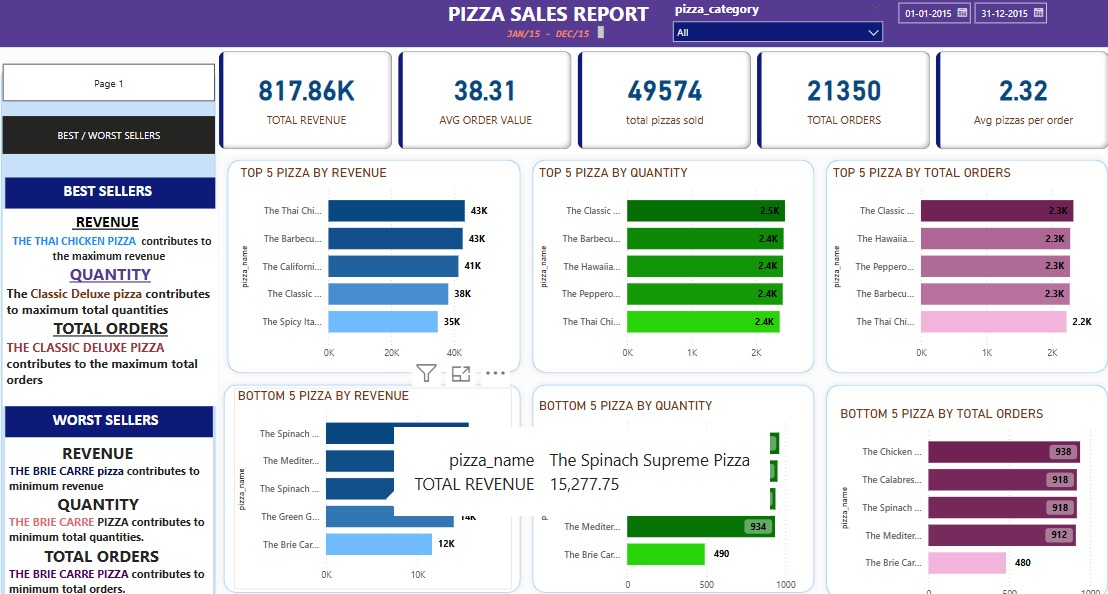

This screenshot's page, from the dashboard's own definition file:
{"tool":"powerbi","page":{"name":"BEST / WORST SELLERS","canvas":[1500,820],"ordinal":1},"visuals":[{"type":"cardVisual","fields":{"Data":["pizza_sales.TOTAL REVENUE","pizza_sales.AVG ORDER VALUE","pizza_sales.total pizzas sold","pizza_sales.TOTAL ORDERS","pizza_sales.Avg pizzas per order"]},"box":[301.7,70,1198.3,141.7],"z":0},{"type":"shape","box":[0,1.7,1500,68.3],"z":1000},{"type":"textbox","box":[606.7,1.7,298.3,68.3],"z":2000},{"type":"textbox","box":[673.3,36.7,151.7,26.7],"z":3000},{"type":"shape","box":[310,211.7,406.7,300],"z":4000},{"type":"shape","box":[8.3,85,301.7,735],"z":12000},{"type":"textbox","box":[21.7,243.3,280,41.7],"z":15000},{"type":"textbox","box":[18.3,285,286.7,263.3],"z":16000},{"type":"textbox","box":[21.7,548.3,276.7,41.7],"z":17000},{"type":"textbox","box":[21.7,590,276.7,221.7],"z":18000},{"type":"slicer","fields":{"Values":["pizza_sales.pizza_category"]},"box":[901.7,1.7,300,61.7],"z":19000},{"type":"slicer","fields":{"Values":["pizza_sales.order_date"]},"box":[1200,0,300,70],"z":20000},{"type":"shape","box":[716.7,211.7,391.7,300],"z":20001},{"type":"shape","box":[1108.3,211.7,391.7,300],"z":20002},{"type":"shape","box":[305,511.7,411.7,293.3],"z":20003},{"type":"shape","box":[716.7,511.7,391.7,293.3],"z":20004},{"type":"shape","box":[1108.3,511.7,391.7,300],"z":20005},{"type":"barChart","title":"TOP 5 PIZZA BY REVENUE","fields":{"Category":["pizza_sales.pizza_name"],"Y":["pizza_sales.TOTAL REVENUE"]},"box":[330,226.7,370,268.3],"z":20006},{"type":"barChart","title":"BOTTOM 5 PIZZA BY REVENUE","fields":{"Category":["pizza_sales.pizza_name"],"Y":["pizza_sales.TOTAL REVENUE"]},"box":[326.7,523.3,370,268.3],"z":20007},{"type":"barChart","title":"TOP 5 PIZZA BY QUANTITY","fields":{"Category":["pizza_sales.pizza_name"],"Y":["pizza_sales.total pizzas sold"]},"box":[728.3,226.7,370,268.3],"z":20008},{"type":"barChart","title":"BOTTOM 5 PIZZA BY QUANTITY","fields":{"Category":["pizza_sales.pizza_name"],"Y":["pizza_sales.total pizzas sold"]},"box":[728.3,536.7,370,268.3],"z":20009},{"type":"barChart","title":"TOP 5 PIZZA BY TOTAL ORDERS","fields":{"Category":["pizza_sales.pizza_name"],"Y":["pizza_sales.TOTAL ORDERS"]},"box":[1120,226.7,370,268.3],"z":20010},{"type":"barChart","title":"BOTTOM 5 PIZZA BY TOTAL ORDERS","fields":{"Category":["pizza_sales.pizza_name"],"Y":["pizza_sales.TOTAL ORDERS"]},"box":[1130,548.3,370,268.3],"z":20011},{"type":"pageNavigator","box":[18.3,161.7,283.3,50],"z":20012},{"type":"pageNavigator","box":[18.3,91.7,283.3,50],"z":20013}]}

Visuals, with their boxes in screenshot pixels (x1, y1, x2, y2), scaled from the page's 1500x820 canvas onto the 1108x594 screenshot:
cardVisual - pizza_sales.TOTAL REVENUE x pizza_sales.AVG ORDER VALUE: {"left": 223, "top": 51, "right": 1107, "bottom": 153}
shape: {"left": 0, "top": 1, "right": 1107, "bottom": 51}
textbox: {"left": 448, "top": 1, "right": 668, "bottom": 51}
textbox: {"left": 497, "top": 27, "right": 609, "bottom": 46}
shape: {"left": 229, "top": 153, "right": 529, "bottom": 371}
shape: {"left": 6, "top": 62, "right": 229, "bottom": 593}
textbox: {"left": 16, "top": 176, "right": 223, "bottom": 206}
textbox: {"left": 14, "top": 206, "right": 225, "bottom": 397}
textbox: {"left": 16, "top": 397, "right": 220, "bottom": 427}
textbox: {"left": 16, "top": 427, "right": 220, "bottom": 588}
slicer - pizza_sales.pizza_category: {"left": 666, "top": 1, "right": 888, "bottom": 46}
slicer - pizza_sales.order_date: {"left": 886, "top": 0, "right": 1107, "bottom": 51}
shape: {"left": 529, "top": 153, "right": 819, "bottom": 371}
shape: {"left": 819, "top": 153, "right": 1107, "bottom": 371}
shape: {"left": 225, "top": 371, "right": 529, "bottom": 583}
shape: {"left": 529, "top": 371, "right": 819, "bottom": 583}
shape: {"left": 819, "top": 371, "right": 1107, "bottom": 588}
"TOP 5 PIZZA BY REVENUE" barChart: {"left": 244, "top": 164, "right": 517, "bottom": 359}
"BOTTOM 5 PIZZA BY REVENUE" barChart: {"left": 241, "top": 379, "right": 515, "bottom": 573}
"TOP 5 PIZZA BY QUANTITY" barChart: {"left": 538, "top": 164, "right": 811, "bottom": 359}
"BOTTOM 5 PIZZA BY QUANTITY" barChart: {"left": 538, "top": 389, "right": 811, "bottom": 583}
"TOP 5 PIZZA BY TOTAL ORDERS" barChart: {"left": 827, "top": 164, "right": 1101, "bottom": 359}
"BOTTOM 5 PIZZA BY TOTAL ORDERS" barChart: {"left": 835, "top": 397, "right": 1107, "bottom": 592}
pageNavigator: {"left": 14, "top": 117, "right": 223, "bottom": 153}
pageNavigator: {"left": 14, "top": 66, "right": 223, "bottom": 103}
